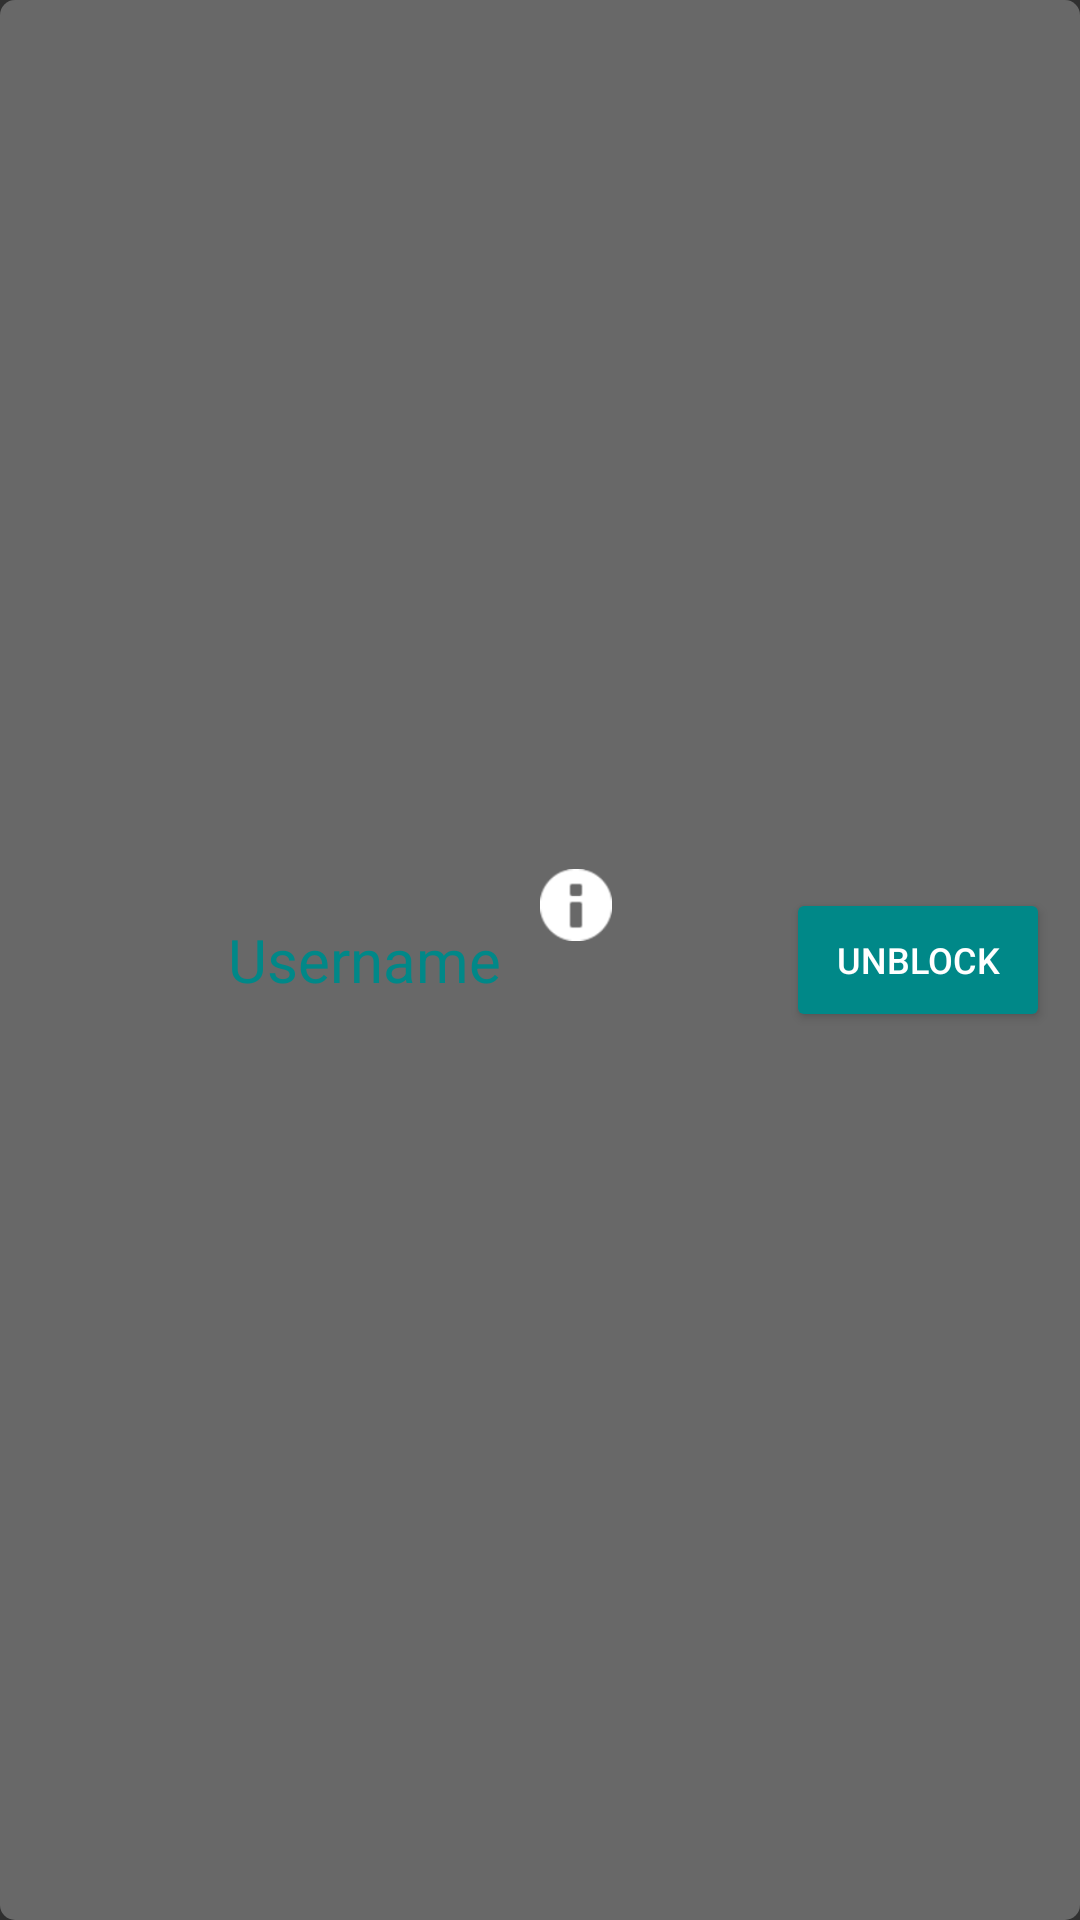

Where to tap for icons on this 1080 x 1920 app screen, as (x,y):
info: (576,905)
